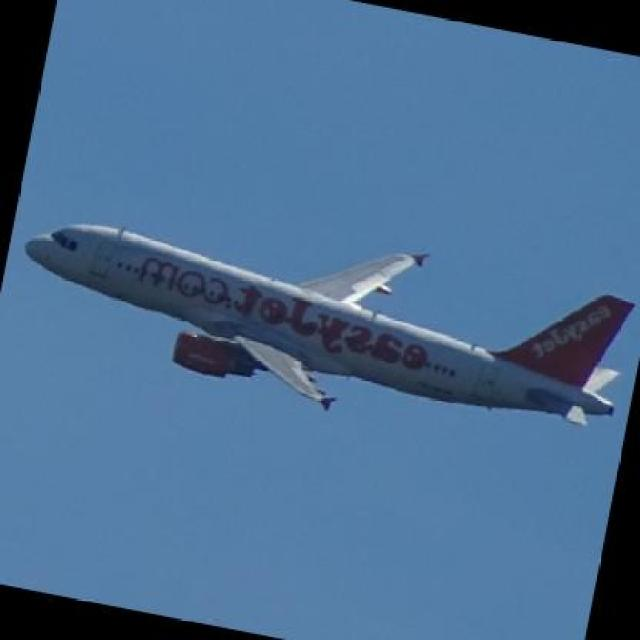iha: (0, 205, 640, 441)
